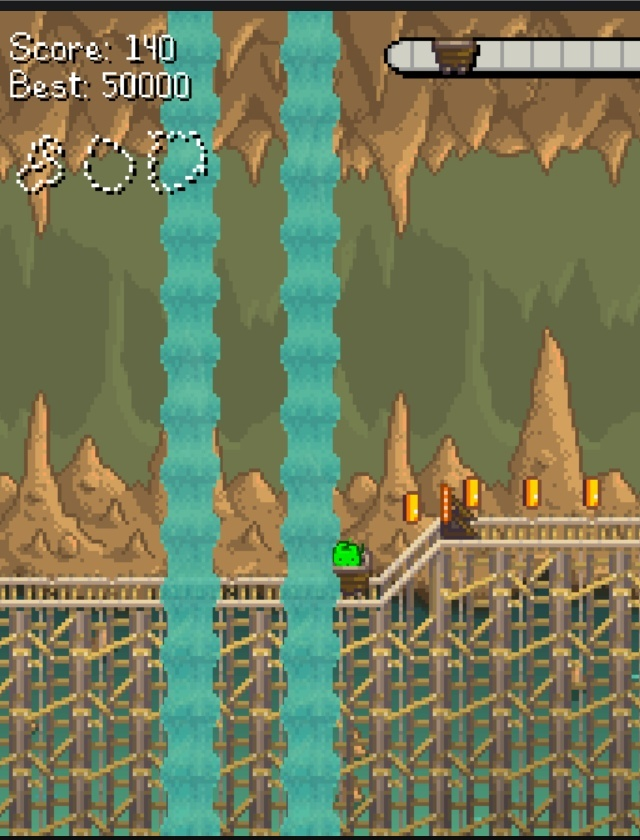barricade: (435, 477, 484, 543)
coins: (523, 477, 539, 508), (583, 477, 599, 508), (404, 494, 419, 523), (464, 479, 478, 507)
minecart: (333, 540, 369, 595)
tracks: (0, 508, 638, 618)
